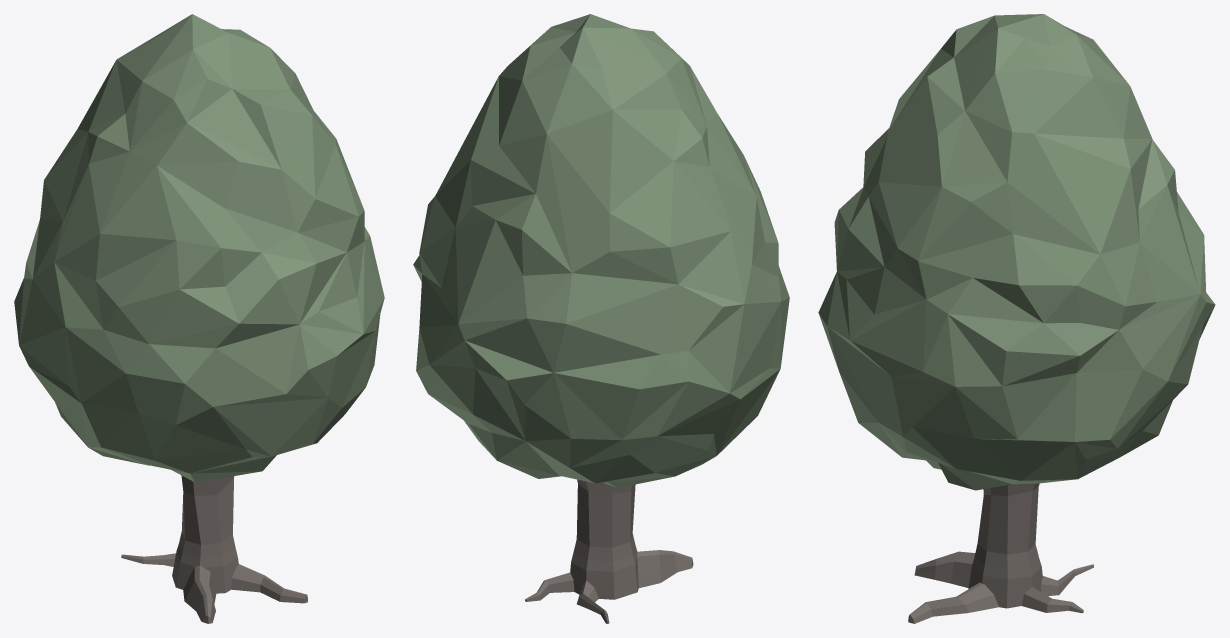
Rendered from Ash_tree.fbx.
3 renders of one model, left to right at view 1: azimuth 30°, elevation 25°; view 2: azimuth 150°, elevation 25°; view 3: azimuth 270°, elevation 25°, orthographic. The views are drawn at different scales.
Visible parts, largest first — view 1: pSphere4, pCylinder10; view 2: pSphere4, pCylinder10; view 3: pSphere4, pCylinder10.
Part boxes in pixels (left/top/right/bottom): pSphere4: left=14, top=14, right=384, bottom=482; pCylinder10: left=121, top=475, right=307, bottom=623; pSphere4: left=413, top=14, right=789, bottom=487; pCylinder10: left=525, top=479, right=693, bottom=623; pSphere4: left=818, top=14, right=1215, bottom=490; pCylinder10: left=908, top=483, right=1093, bottom=623.
Size of the model in its own units: 7.24 by 12.25 by 7.57.
